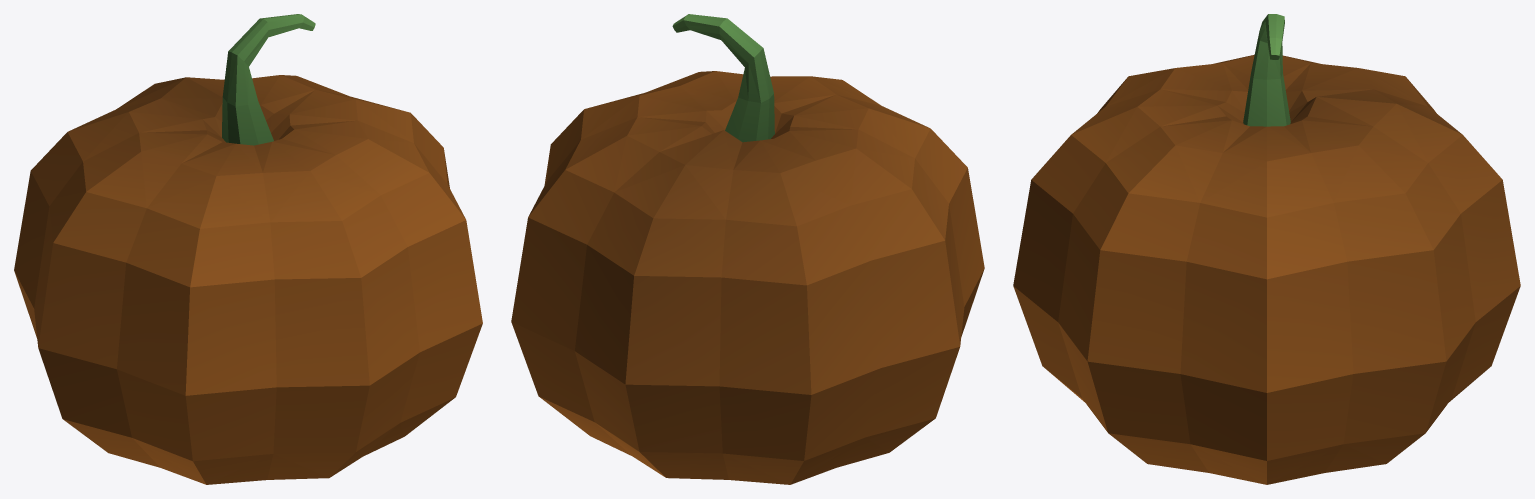
File: Pumpkin_01.fbx
3 renders of one model, left to right at view 1: azimuth 30°, elevation 25°; view 2: azimuth 150°, elevation 25°; view 3: azimuth 270°, elevation 25°, orthographic. The views are drawn at different scales.
Parts seen in each view (by area): view 1: Pumpkin_01; view 2: Pumpkin_01; view 3: Pumpkin_01.
Part boxes in pixels (x1=…): Pumpkin_01: x1=14, y1=14, x2=482, y2=484; Pumpkin_01: x1=511, y1=14, x2=984, y2=484; Pumpkin_01: x1=1013, y1=14, x2=1520, y2=484.
Size of the model in its own units: 0.4 by 0.3752 by 0.4.
